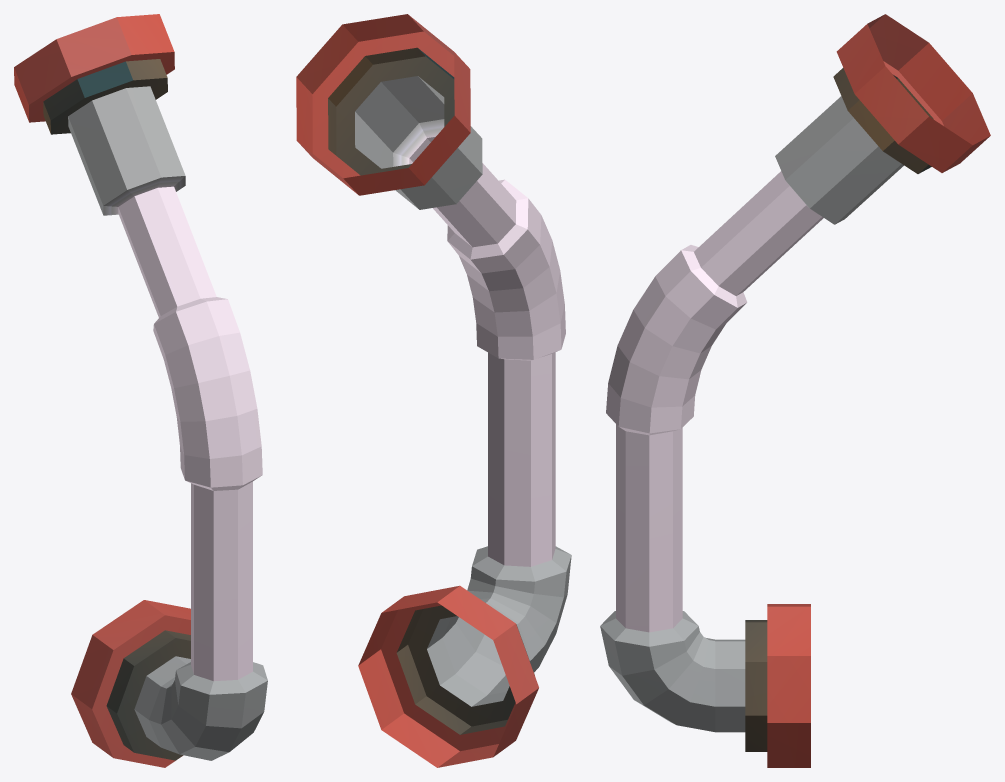
The model's file is Pipe_45_red.fbx.
3 views of the same model, side by side, from view 1: azimuth 30°, elevation 25°; view 2: azimuth 150°, elevation 25°; view 3: azimuth 270°, elevation 25° (orthographic). The views are drawn at different scales.
Parts seen in each view (by area): view 1: Pipe_45_red; view 2: Pipe_45_red; view 3: Pipe_45_red.
Boxes of the visible parts, x1=… form: Pipe_45_red: x1=14, y1=14, x2=267, y2=767; Pipe_45_red: x1=296, y1=14, x2=571, y2=767; Pipe_45_red: x1=600, y1=14, x2=990, y2=767.
Size of the model in its own units: 32.45 by 152 by 72.62.
